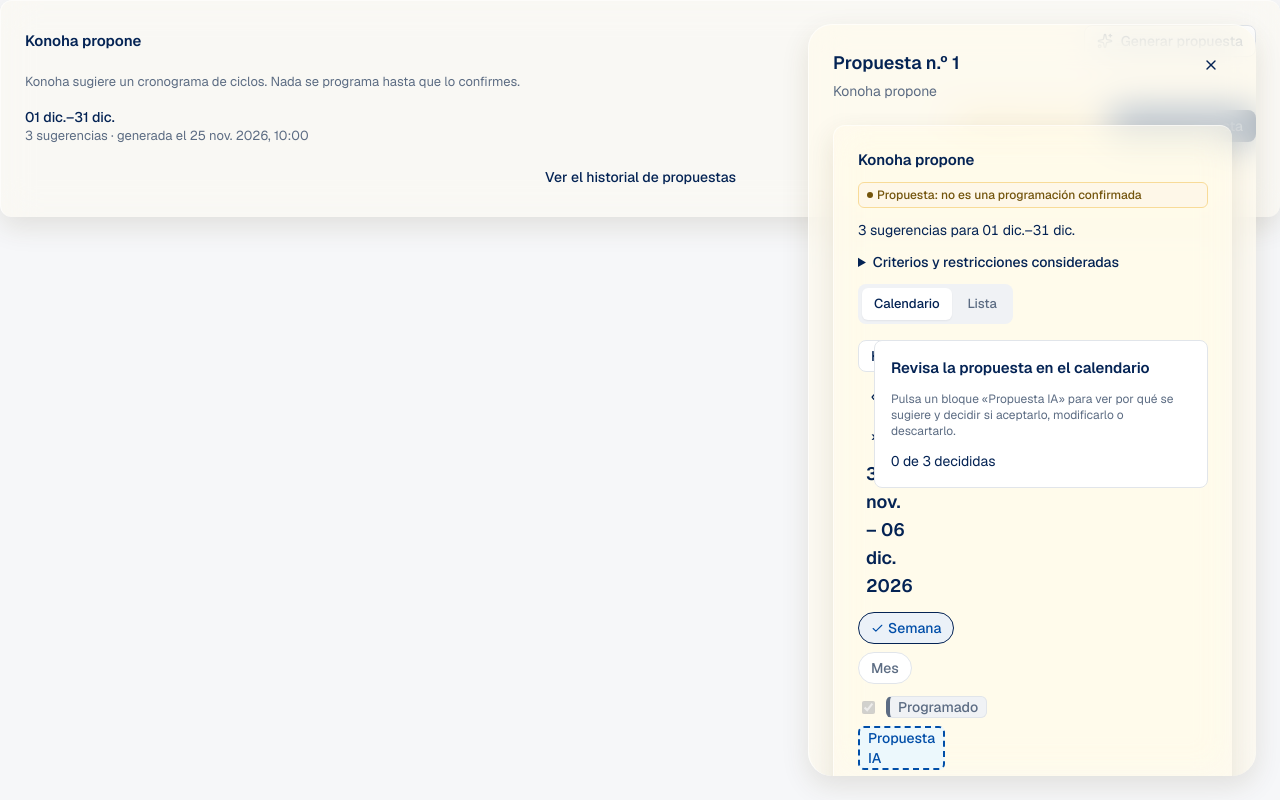
Test: panel de revisión › muestra el panel con las vistas y la sugerencia bloqueada por prohibición
The width and height of the screenshot is (1280, 800).
Expected: the tab "Calendario" is shown, 862,288 -> 952,320
Expected: the text "3 sugerencias para" is shown, 858,221 -> 1075,239
What coordinates should you click on to do the following:
click the tab "Lista"
I would click on:
 (982, 304)
Its box is 956,288 -> 1009,320.
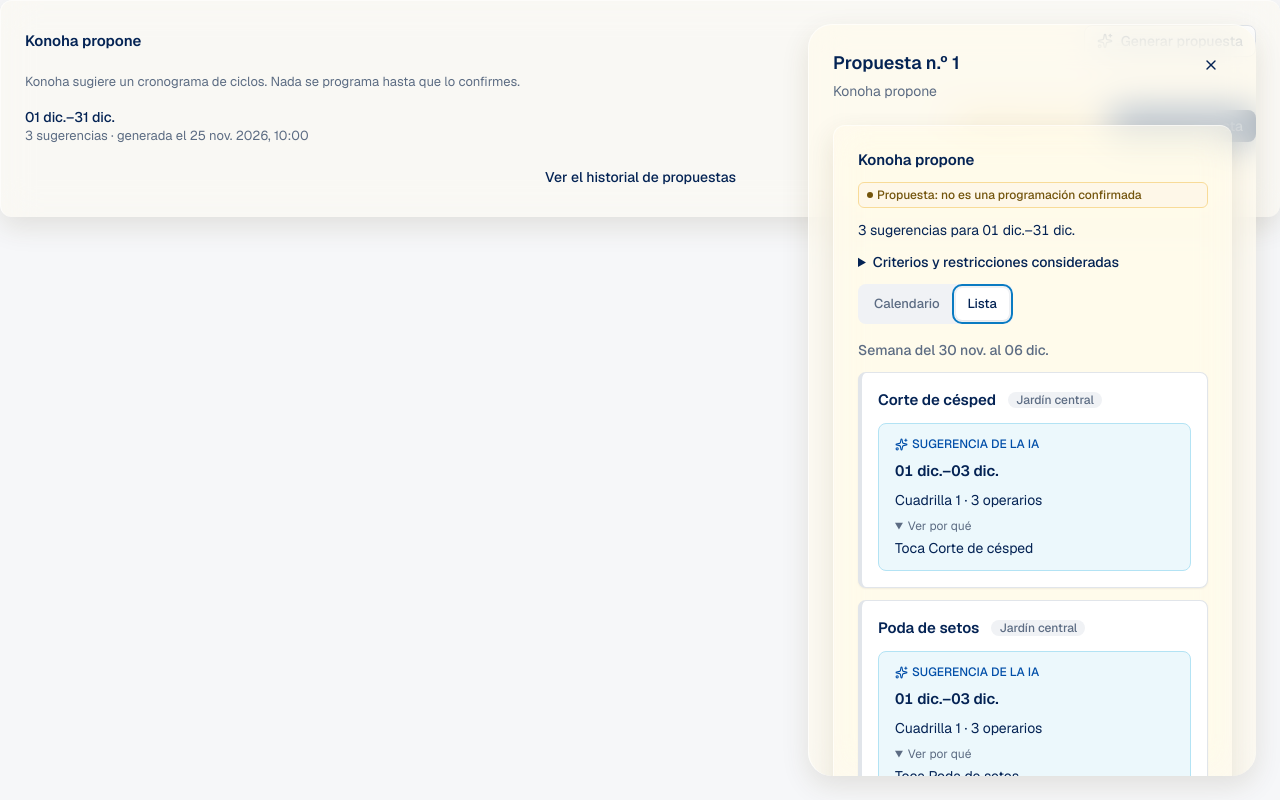
Expected: the text "Propuesta: no es una programación confirmada" is shown, 877,187 -> 1142,203
Now the heading "Poda de setos" is shown, box 878,617 -> 979,639
